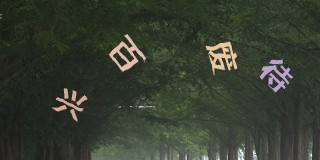兴: (51, 86, 87, 122)
废: (205, 40, 238, 75)
待: (258, 59, 293, 92)
百: (107, 33, 147, 72)
